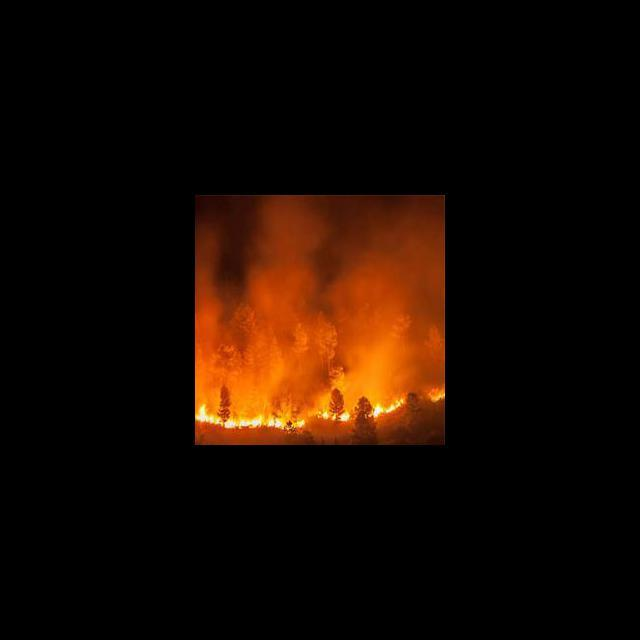Fire: (195, 379, 444, 436)
